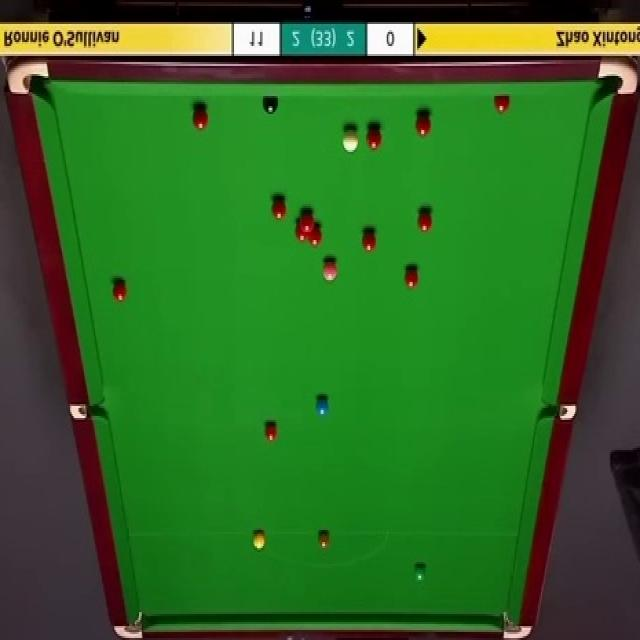black-ball: (262, 94, 280, 115)
blue-ball: (315, 396, 330, 416)
brown-ball: (318, 532, 330, 552)
green-ball: (412, 562, 426, 584)
pink-ball: (322, 256, 339, 281)
red-ball: (358, 229, 376, 255), (191, 105, 208, 132), (404, 265, 420, 291), (366, 124, 382, 150), (414, 113, 432, 136), (262, 420, 278, 444), (417, 205, 431, 232), (272, 196, 287, 220), (112, 278, 127, 302), (294, 218, 308, 242), (494, 95, 510, 115), (309, 222, 322, 246), (300, 210, 316, 229)
white-ball: (343, 127, 357, 151)
yellow-ball: (252, 531, 266, 549)
